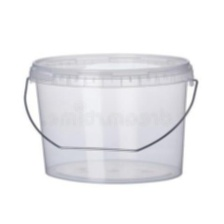plastic_box: (14, 46, 207, 189)
